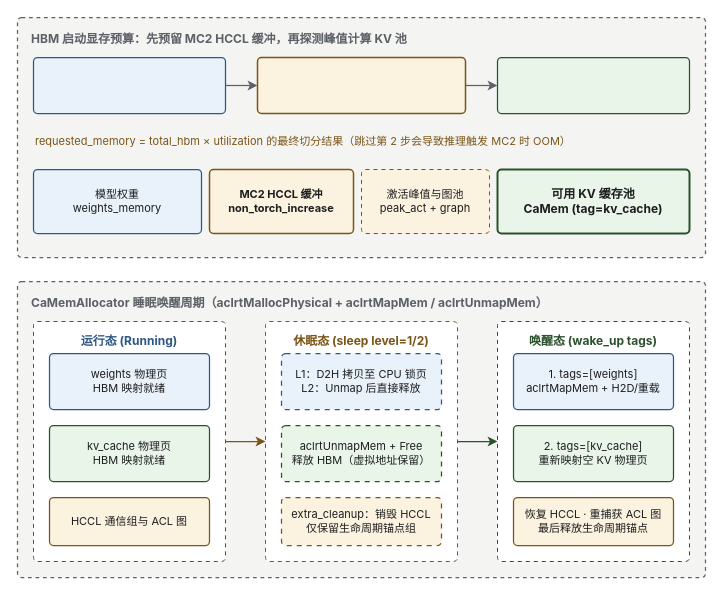
This 724x596 diagram has some shape labels left out. The centre of each missing label's shape, as x and y in pixels:
1. load_model() 权重加载入 CaMem (tag=weights): (x=129, y=85)
2. MC2 额外空跑预热 _dummy_run(mc2_tokens_capacity): (x=361, y=85)
3. 标准 profile_run() 测量激活峰值，核算 KV 池预算: (x=593, y=85)
